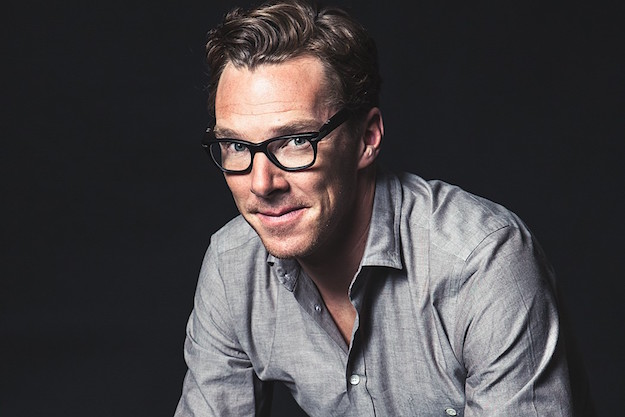glasses: (198, 112, 343, 179)
